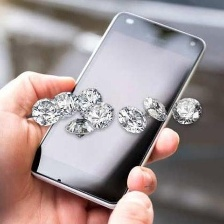phone: (24, 8, 209, 213)
